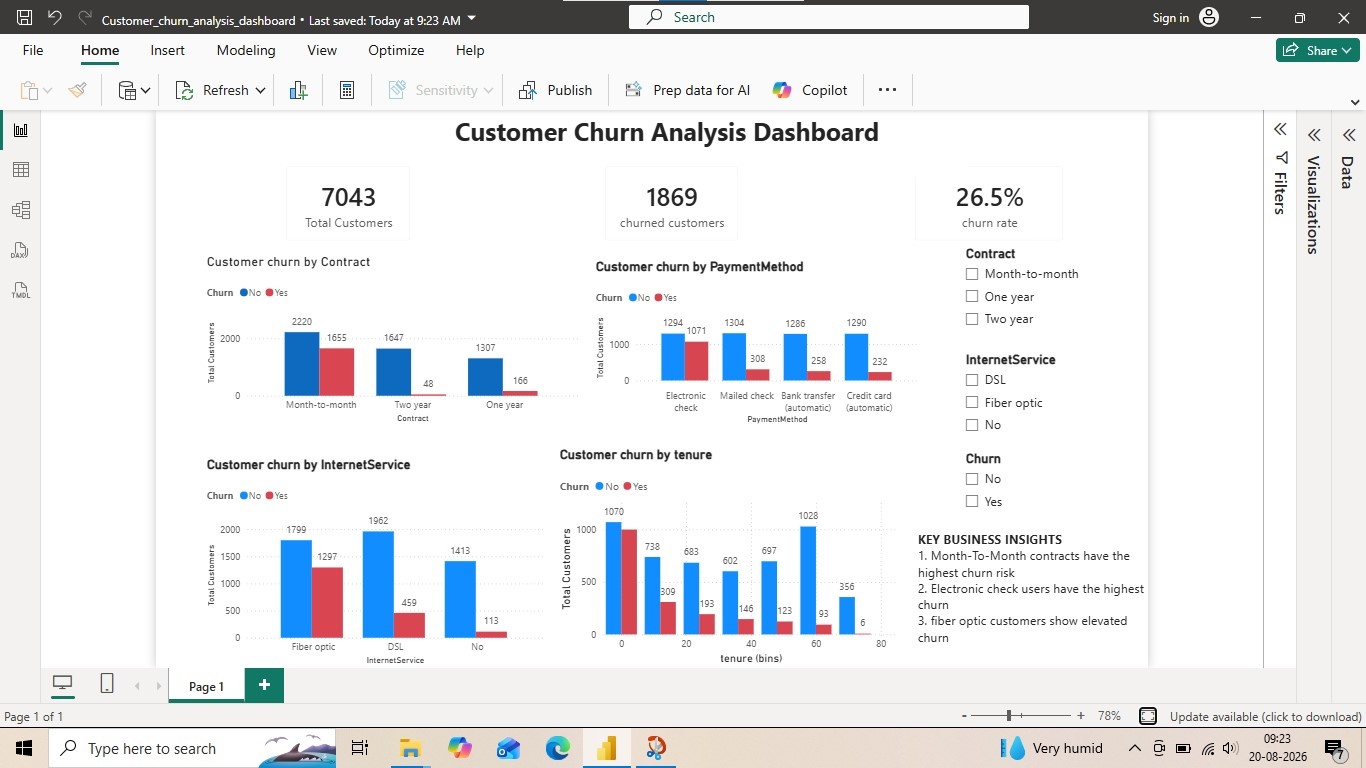

This screenshot's page, from the dashboard's own definition file:
{"tool":"powerbi","page":{"name":"Page 1","canvas":[1280,720],"ordinal":0},"visuals":[{"type":"cardVisual","fields":{"Data":["customer_churn_clean.churn rate"]},"box":[962.9,55.7,225.7,130],"z":0},{"type":"clusteredColumnChart","title":"Customer churn by Contract","fields":{"Y":["customer_churn_clean.Total Customers"],"Series":["customer_churn_clean.Churn"],"Category":["customer_churn_clean.Contract"]},"box":[60.6,185.8,489,221.9],"z":1000},{"type":"clusteredColumnChart","title":"Customer churn by PaymentMethod ","fields":{"Category":["customer_churn_clean.PaymentMethod"],"Y":["customer_churn_clean.Total Customers"],"Series":["customer_churn_clean.Churn"]},"box":[562.6,192.3,425.8,216.8],"z":2000},{"type":"clusteredColumnChart","title":"Customer churn by InternetService","fields":{"Category":["customer_churn_clean.InternetService"],"Y":["customer_churn_clean.Total Customers"],"Series":["customer_churn_clean.Churn"]},"box":[60.6,447.7,443.9,272.3],"z":3000},{"type":"clusteredColumnChart","title":"Customer churn by tenure ","fields":{"Category":["customer_churn_clean.tenure (bins)"],"Y":["customer_churn_clean.Total Customers"],"Series":["customer_churn_clean.Churn"]},"box":[516.1,434.8,446.5,285.2],"z":4000},{"type":"slicer","fields":{"Values":["customer_churn_clean.Contract"]},"box":[1032.3,170.3,208.6,167.1],"z":5000},{"type":"slicer","fields":{"Values":["customer_churn_clean.InternetService"]},"box":[1032.3,307.1,208.6,127.1],"z":6000},{"type":"textbox","box":[380.6,0,668.4,86.5],"z":7000},{"type":"cardVisual","fields":{"Data":["customer_churn_clean.Total Customers"]},"box":[151,55.5,194.3,130],"z":8000},{"type":"cardVisual","fields":{"Data":["customer_churn_clean.churned customers"]},"box":[562.9,55.7,205.7,130],"z":9000},{"type":"slicer","fields":{"Values":["customer_churn_clean.Churn"]},"box":[1032.3,434.8,208.6,102.9],"z":10000},{"type":"textbox","box":[978.1,538.1,301.9,181.9],"z":10001}]}

Visuals, with their boxes on the page's 1280x720 design canvas (x1, y1, x2, y2). These are canvas units, not pixel positions in the 1366x768 screenshot, which may show the page scaled, cropped or inside an application window:
cardVisual - customer_churn_clean.churn rate: 963/56/1189/186
"Customer churn by Contract" clusteredColumnChart: 61/186/550/408
"Customer churn by PaymentMethod " clusteredColumnChart: 563/192/988/409
"Customer churn by InternetService" clusteredColumnChart: 61/448/504/720
"Customer churn by tenure " clusteredColumnChart: 516/435/963/720
slicer - customer_churn_clean.Contract: 1032/170/1241/337
slicer - customer_churn_clean.InternetService: 1032/307/1241/434
textbox: 381/0/1049/86
cardVisual - customer_churn_clean.Total Customers: 151/56/345/186
cardVisual - customer_churn_clean.churned customers: 563/56/769/186
slicer - customer_churn_clean.Churn: 1032/435/1241/538
textbox: 978/538/1280/720
